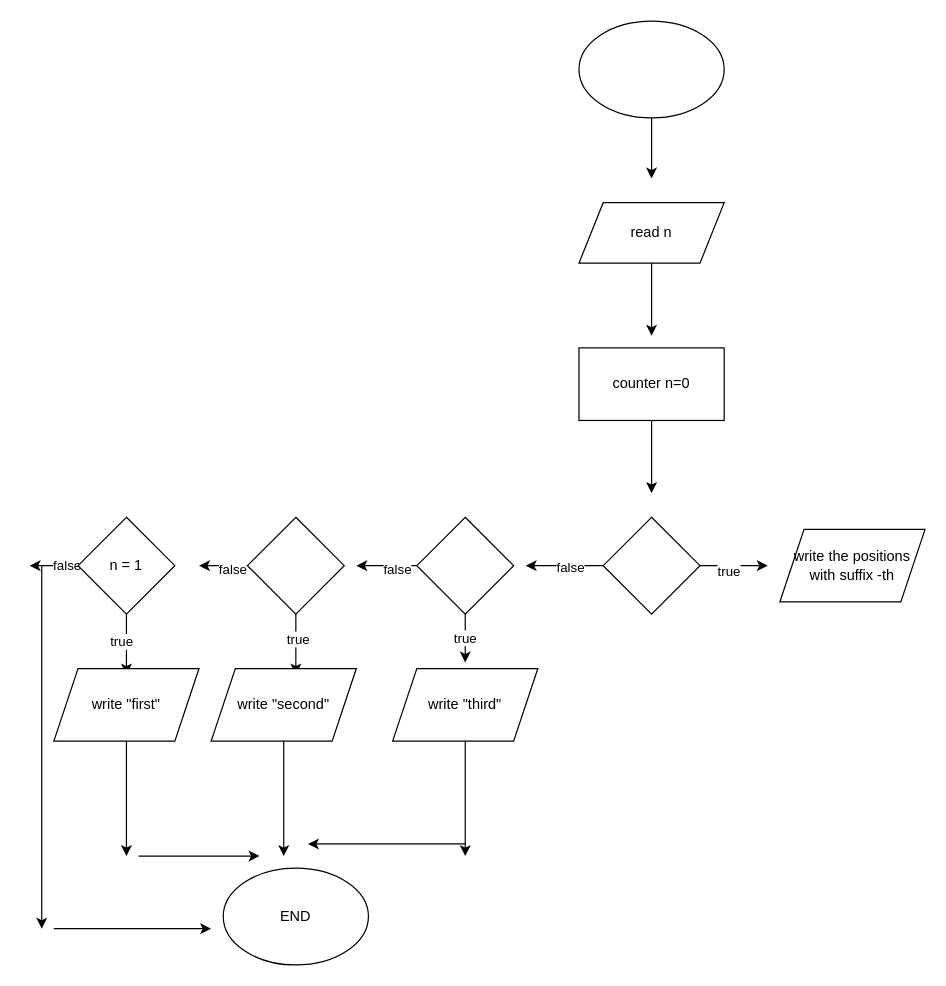
This 946x986 diagram has some shape labels left out. The shapes that lost their labels are listed below. From the top down, each one's centre as x and y in pixels, then its label:
At (651,69): "start".
At (295,565): "n = 2".
At (465,565): "n = 3".
At (651,565): "n > 4".
